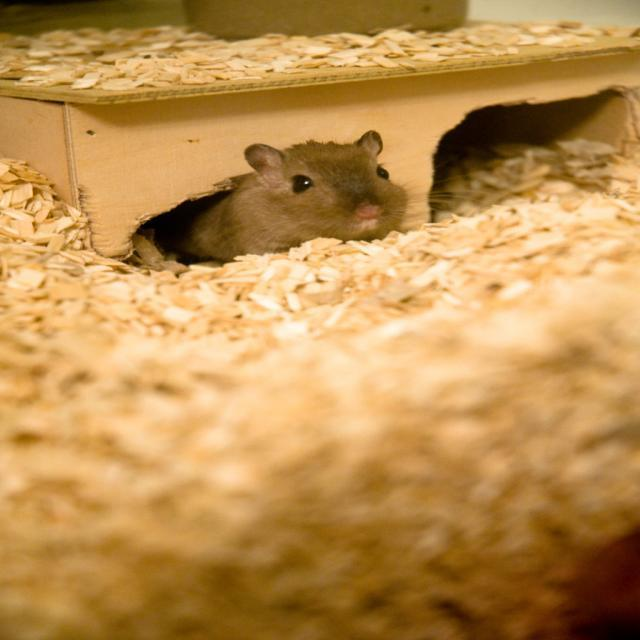rat: (185, 133, 413, 260)
